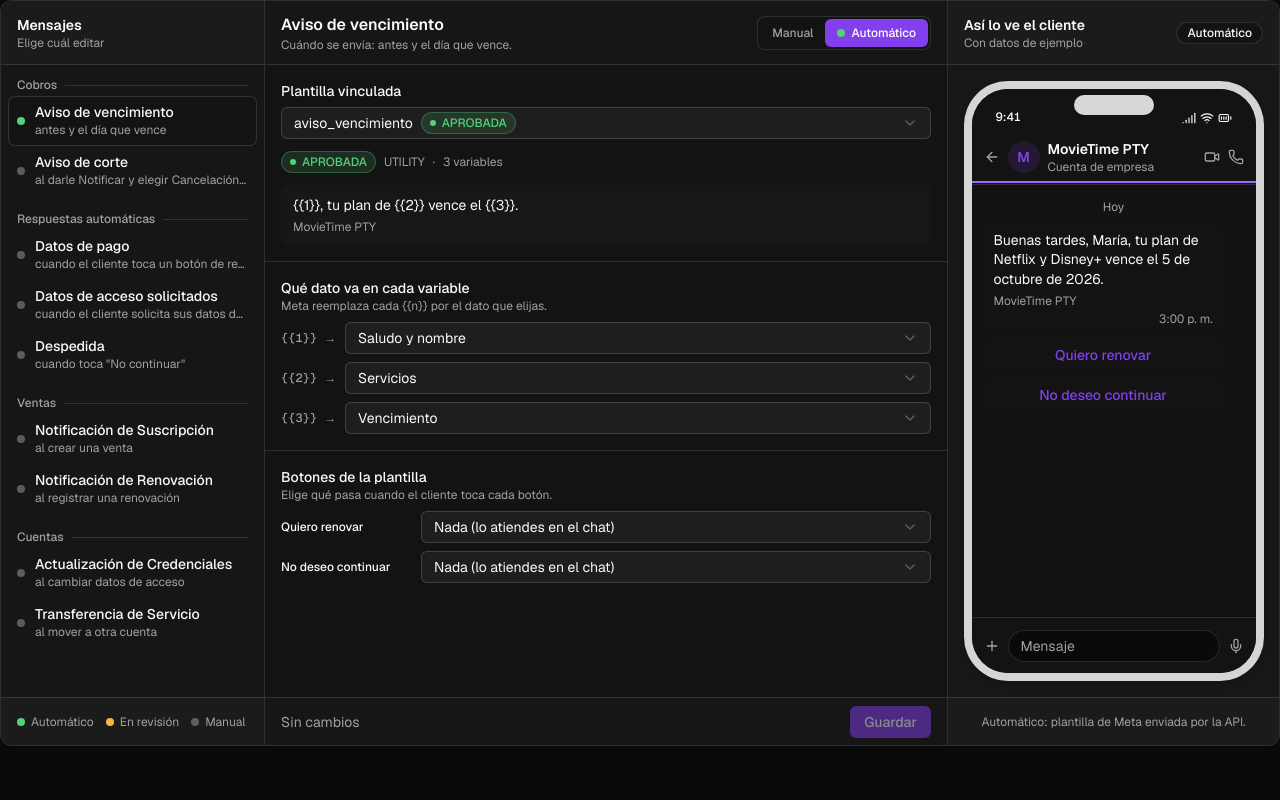
TemplateEditor › shows the linked Meta template with status, body, mapping rows, buttons and the phone preview
The image size is (1280, 800).
Expected: the text "APROBADA" is shown, [421, 112, 516, 134]
Expected: the element with test id "meta-body" shows "{{1}}, tu plan de {{2}} vence el {{3}}.", [293, 196, 518, 214]
Click the button "Manual" at [793, 32], box [760, 18, 826, 46]
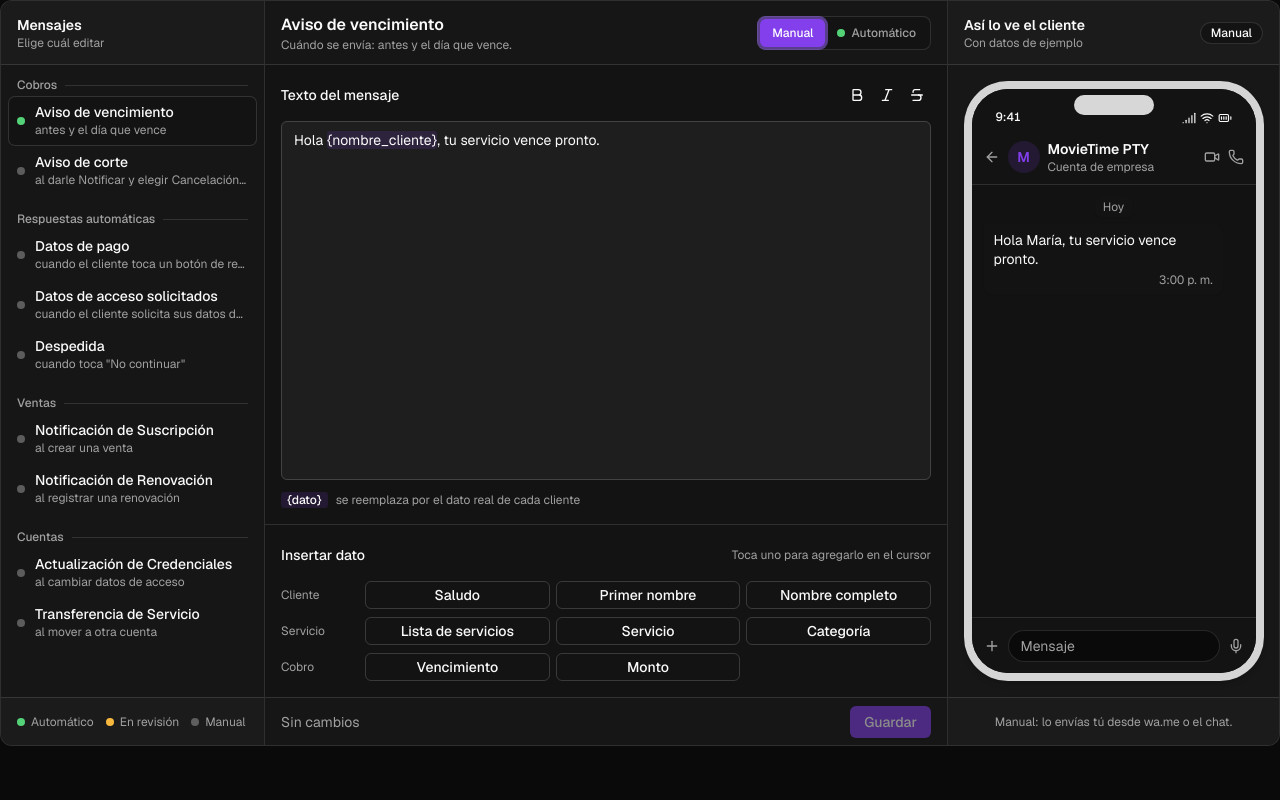
Expected: the element with test id "preview-bubble" shows "Hola María", [994, 231, 1180, 268]
